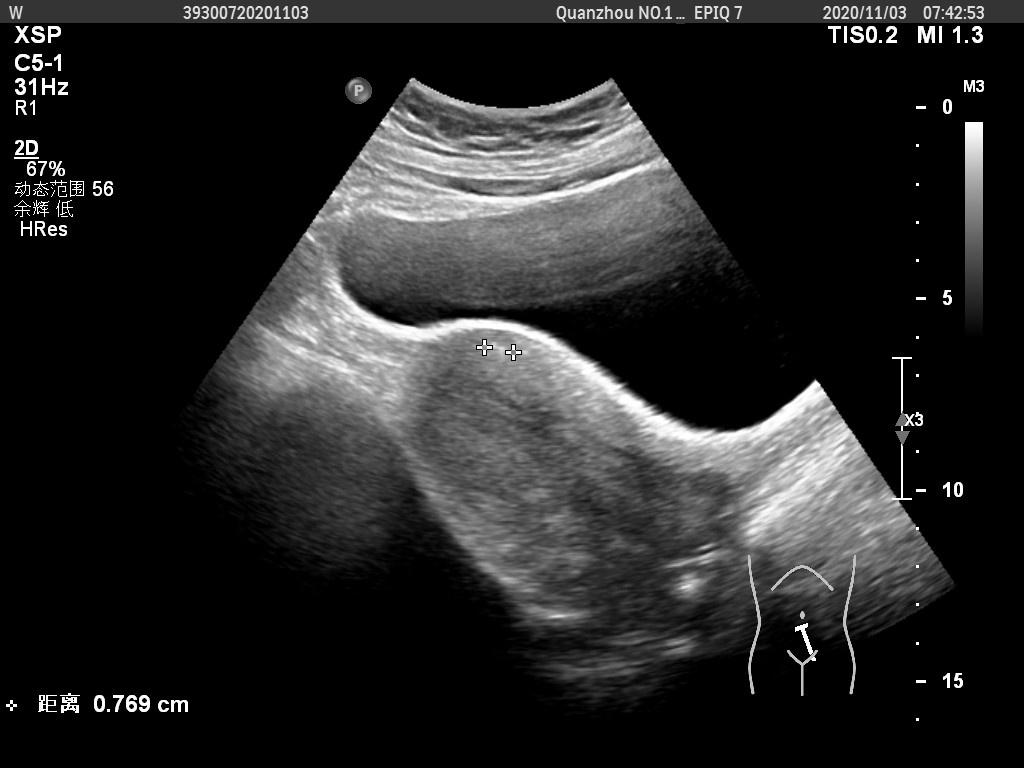肌瘤: (486, 335, 516, 361)
